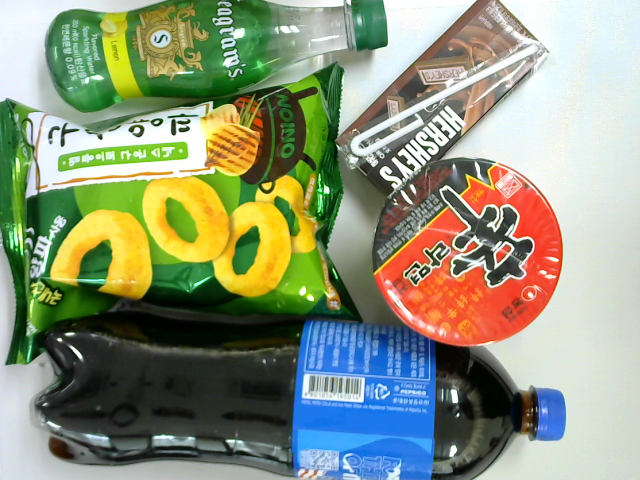Grilled_Onions: (1, 62, 362, 365)
Hush_Choco_Drink: (332, 1, 551, 197)
Pepsi_Cola_1.5L: (29, 312, 569, 480)
Seagram_Lemon_Carbonated_Water: (42, 1, 391, 115)
Sinramen_small: (371, 156, 565, 346)
